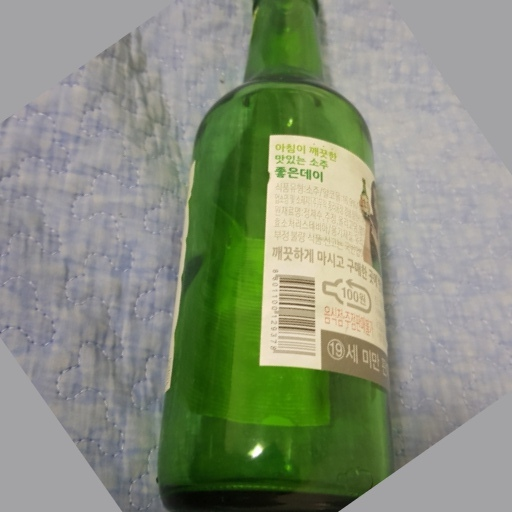Glass_0: (156, 3, 392, 510)
